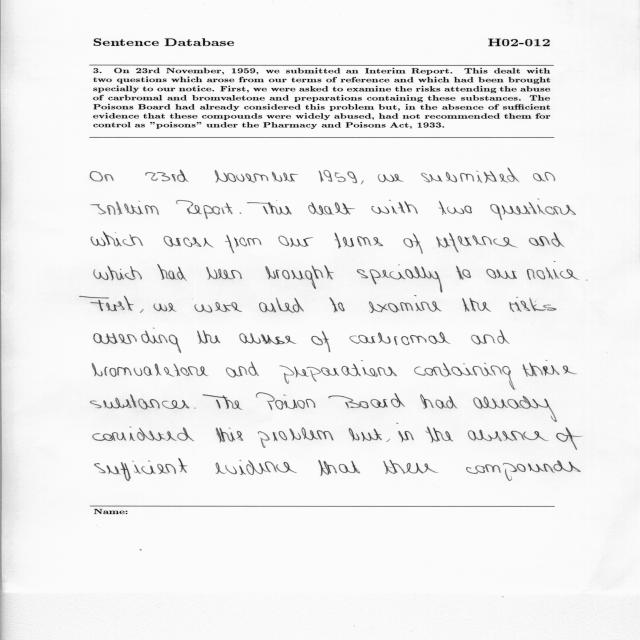word: (279, 360, 397, 384), (414, 363, 515, 390), (357, 264, 442, 293), (466, 460, 581, 481), (473, 396, 557, 422), (94, 328, 181, 353), (95, 458, 188, 481), (421, 168, 555, 183), (265, 265, 334, 289), (92, 363, 209, 377), (258, 427, 333, 448), (436, 233, 518, 252), (490, 202, 576, 220), (93, 426, 194, 441), (90, 395, 189, 410), (349, 332, 451, 345), (369, 296, 442, 313), (216, 460, 297, 475), (329, 393, 406, 408), (176, 200, 233, 219), (215, 170, 298, 183), (256, 393, 315, 410), (527, 261, 578, 280), (523, 360, 577, 377), (468, 430, 549, 441), (335, 232, 383, 249), (80, 296, 134, 311), (384, 460, 439, 474), (91, 232, 143, 246), (509, 297, 557, 312), (239, 333, 296, 345), (259, 298, 304, 313), (94, 266, 142, 280), (318, 460, 360, 476), (371, 200, 418, 214), (225, 235, 261, 253), (116, 200, 159, 215), (203, 394, 243, 410), (308, 202, 355, 215), (556, 427, 582, 450), (247, 202, 292, 215), (471, 330, 510, 345), (420, 394, 458, 409), (164, 236, 214, 247), (529, 232, 565, 247), (145, 170, 189, 182), (226, 362, 259, 378), (157, 264, 187, 281), (194, 302, 242, 312), (206, 267, 242, 280), (439, 201, 472, 215), (426, 426, 453, 443), (324, 170, 358, 183), (349, 428, 382, 441), (403, 233, 423, 254), (311, 331, 331, 352), (462, 298, 491, 312), (216, 428, 243, 443), (278, 236, 313, 247), (396, 423, 414, 442), (197, 330, 220, 344), (486, 269, 517, 279), (91, 204, 116, 215), (90, 171, 114, 182), (330, 298, 345, 313), (456, 266, 471, 280), (378, 174, 404, 182), (154, 303, 177, 312), (319, 171, 324, 182), (140, 309, 144, 313), (386, 439, 390, 442), (361, 181, 363, 185), (240, 212, 242, 214), (586, 279, 588, 281), (194, 408, 196, 409)
